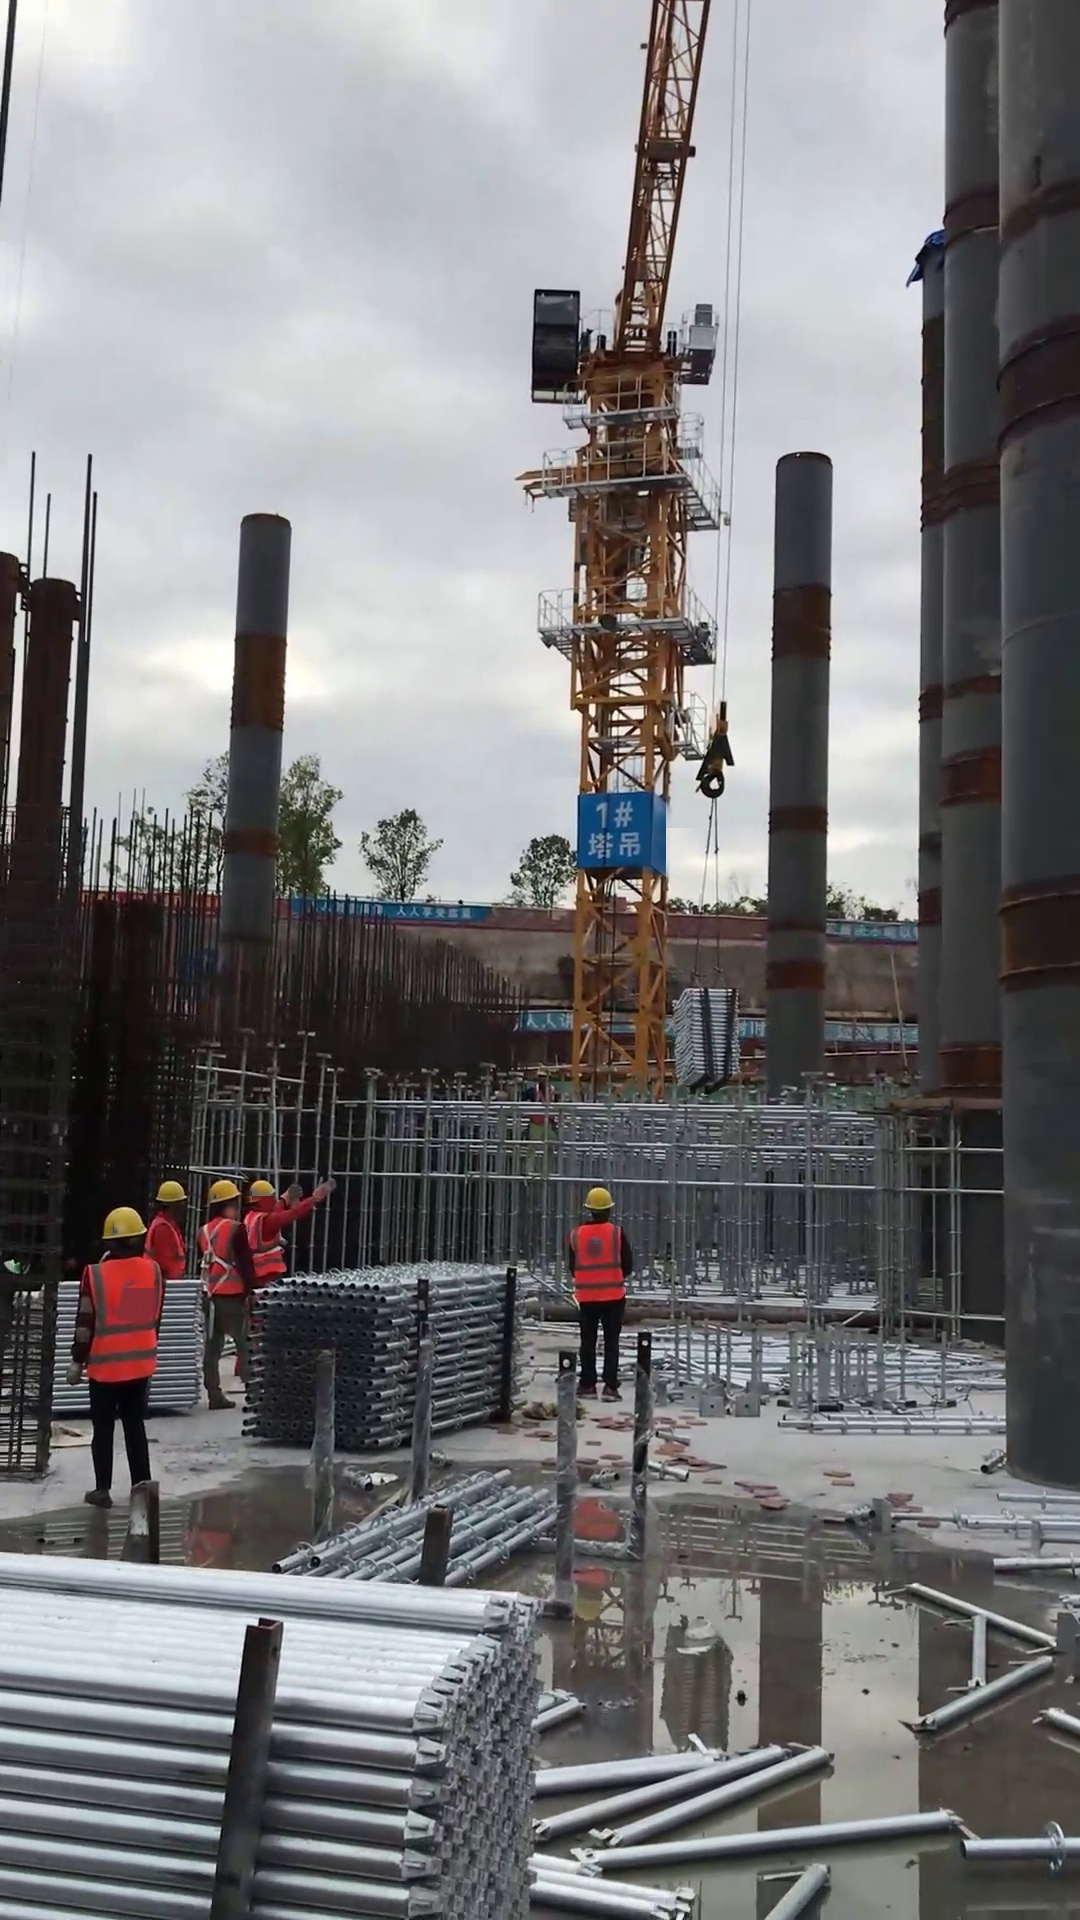helmet: (99, 1205, 149, 1241), (581, 1185, 618, 1216), (205, 1177, 242, 1206), (153, 1178, 188, 1201), (250, 1176, 278, 1204)
hook: (695, 696, 735, 799)
person: (64, 1206, 168, 1512), (565, 1184, 635, 1404), (195, 1177, 261, 1411), (244, 1172, 336, 1283), (143, 1175, 193, 1280)
scaffold: (1, 1547, 540, 1920), (242, 1258, 532, 1452), (271, 1467, 558, 1589), (1, 1278, 213, 1414), (670, 985, 742, 1089)
slogan: (580, 791, 654, 873), (295, 893, 483, 924), (823, 917, 920, 943), (826, 1019, 921, 1045), (521, 1010, 578, 1033)
vest: (80, 1252, 164, 1385), (569, 1220, 629, 1304), (196, 1214, 250, 1297), (143, 1211, 186, 1282), (245, 1208, 286, 1280), (529, 1082, 558, 1122)
